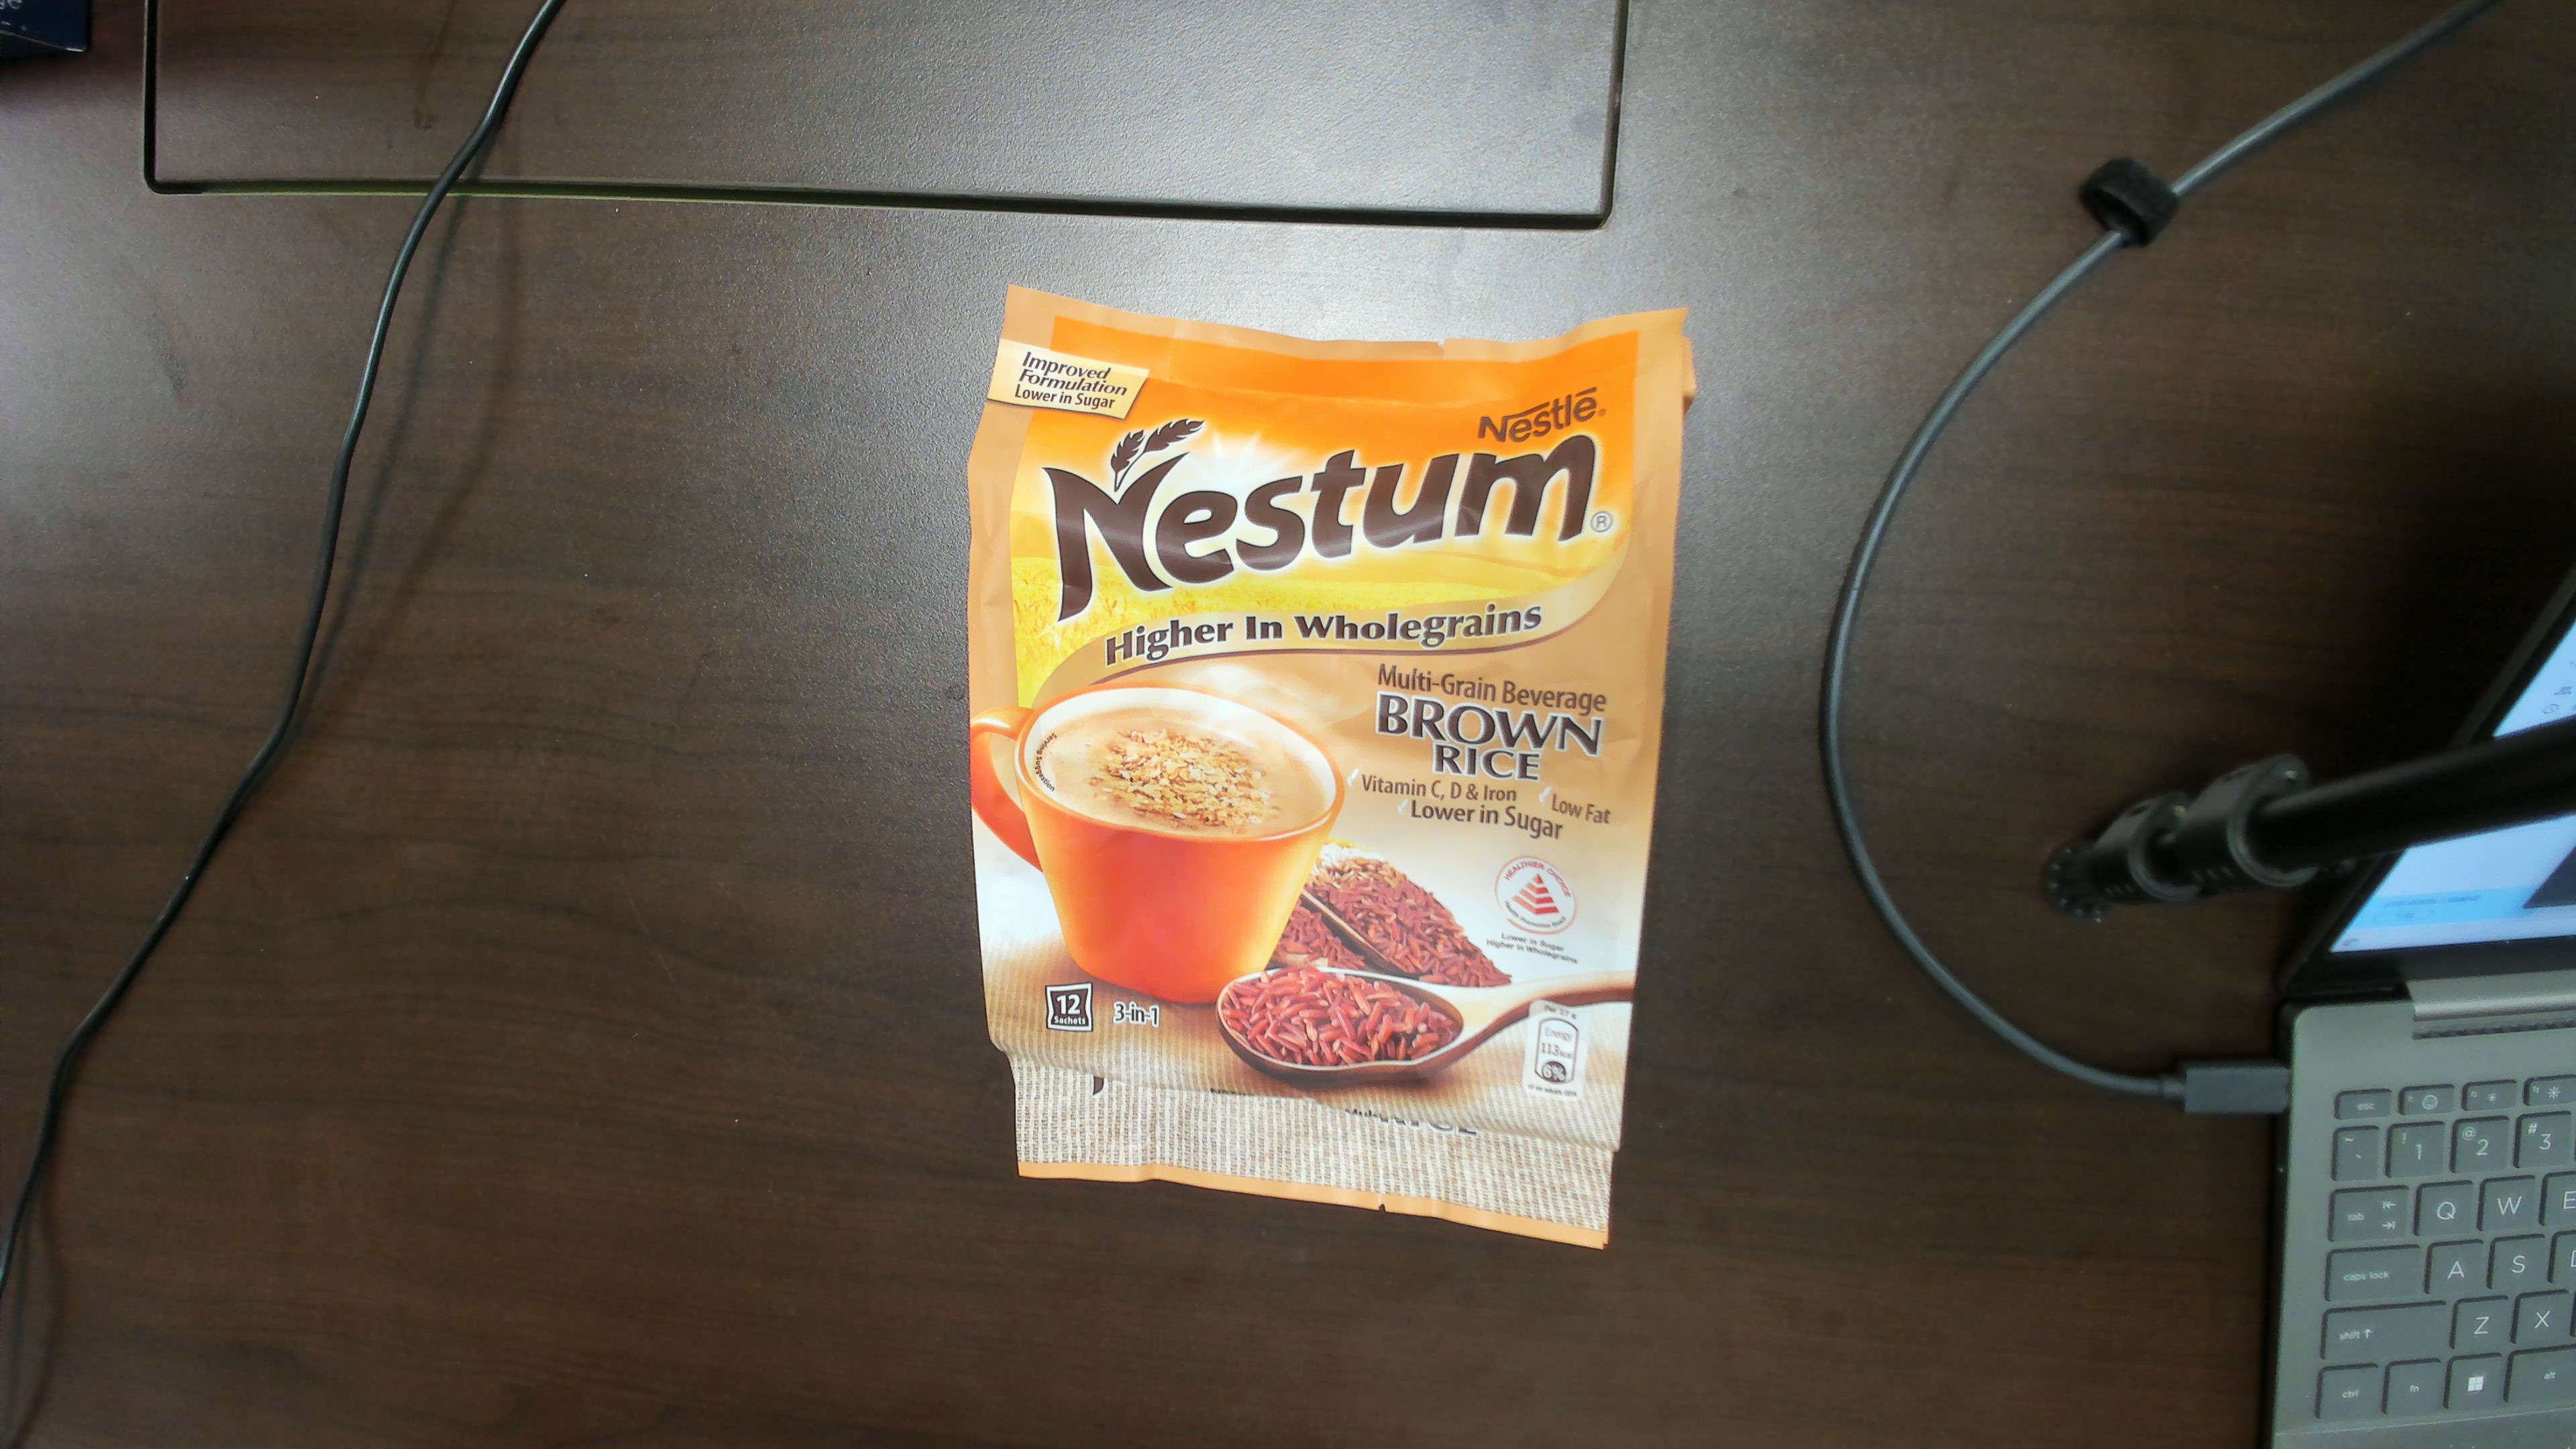CerealBeverage-powder_300-399g_NonHalal_Healthy: (1031, 364, 1599, 1093)
